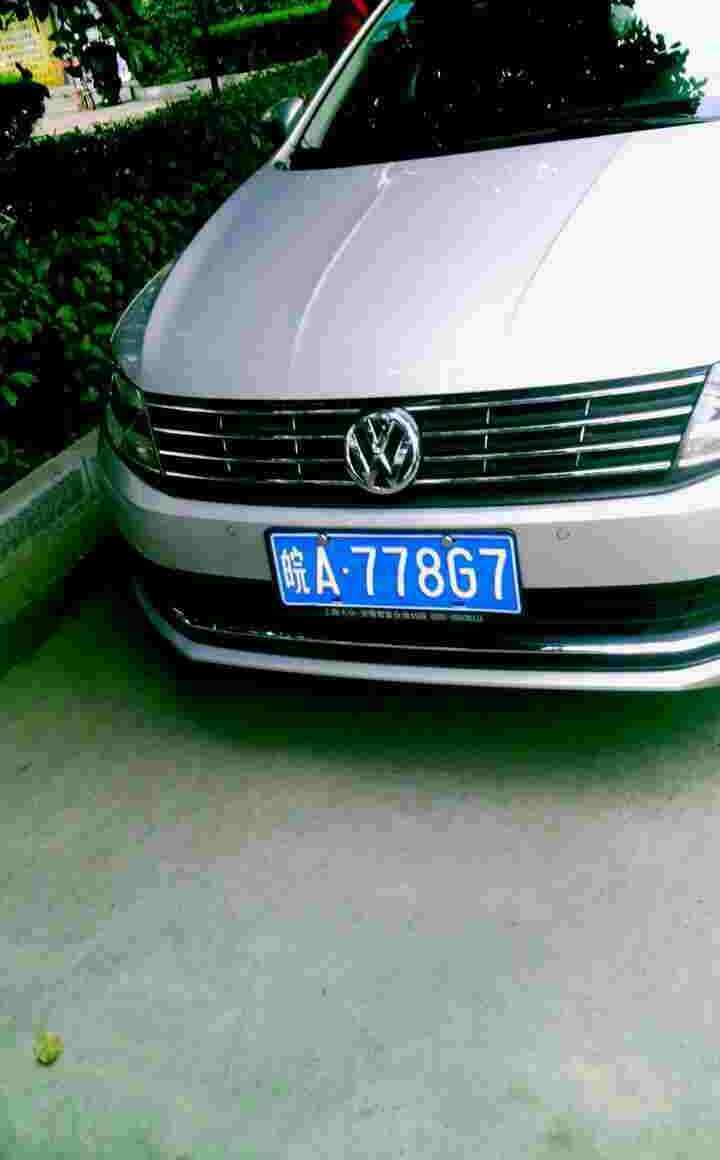plate: (267, 528, 527, 615)
